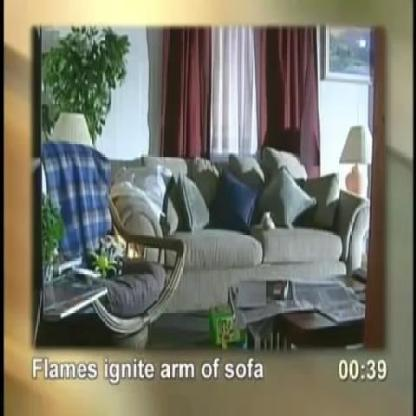fire: (115, 232, 138, 262)
